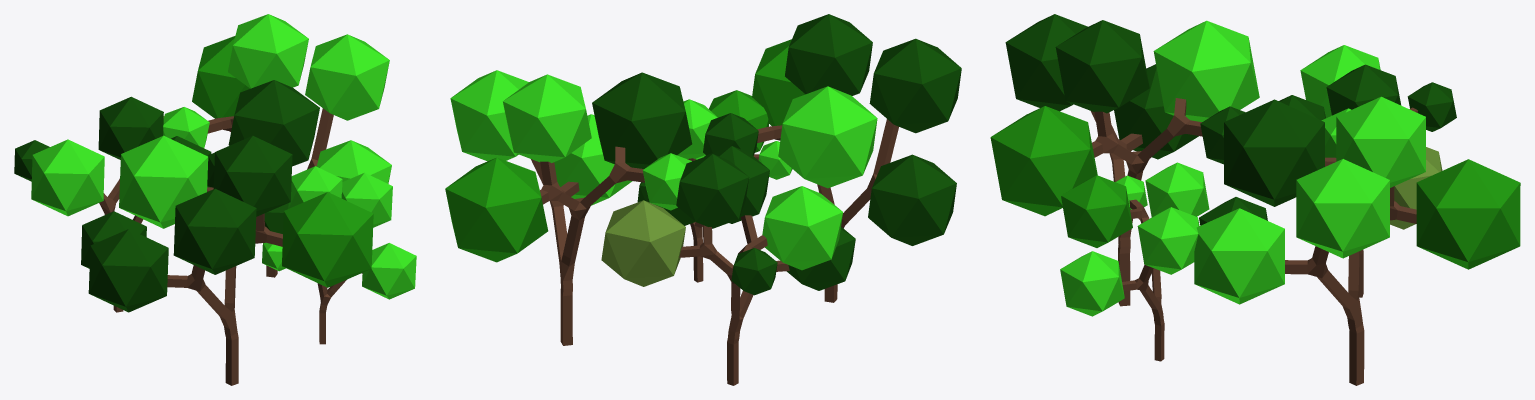
The model's file is Forrest.fbx.
3 renders of one model, left to right at view 1: azimuth 30°, elevation 25°; view 2: azimuth 150°, elevation 25°; view 3: azimuth 270°, elevation 25°, orthographic. The views are drawn at different scales.
Parts seen in each view (by area): view 1: Forrest; view 2: Forrest; view 3: Forrest.
Boxes of the visible parts, x1,y1,x2,y2 form: Forrest: [14, 14, 416, 385]; Forrest: [445, 14, 961, 385]; Forrest: [990, 14, 1520, 385].
Bounding box in the file's own units: 120 × 77.66 × 129.
